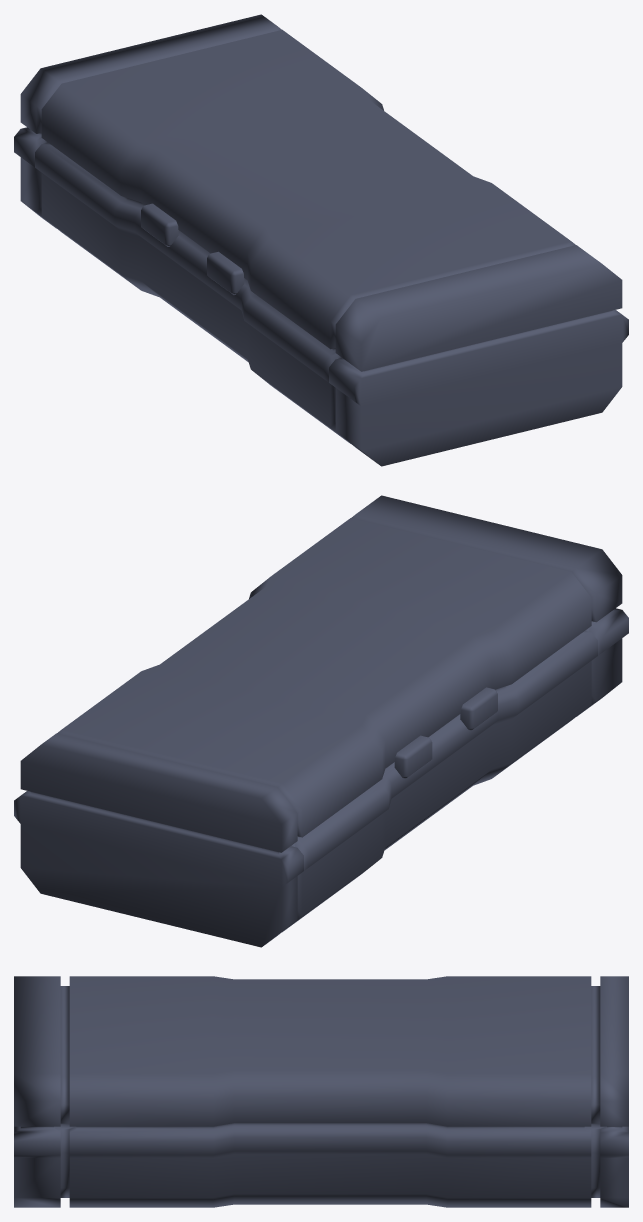
File: crateCoffin_low.fbx
The picture shows the model from 3 angles, top to bottom: view 1: azimuth 30°, elevation 25°; view 2: azimuth 150°, elevation 25°; view 3: azimuth 270°, elevation 25°; orthographic projection. The views are drawn at different scales.
Visible parts, largest first — view 1: crateCoffin_low; view 2: crateCoffin_low; view 3: crateCoffin_low.
Part boxes in pixels (box(x1,y1,x2,y2)): crateCoffin_low: box(14, 14, 628, 466); crateCoffin_low: box(14, 495, 628, 947); crateCoffin_low: box(14, 976, 628, 1207).
Size of the model in its own units: 0.9286 by 0.4815 by 2.
